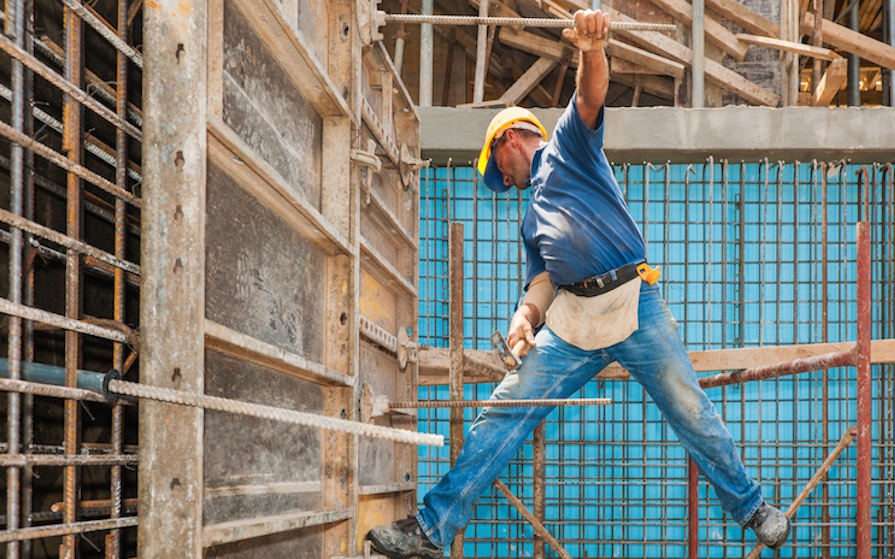epi: (415, 10, 793, 546)
